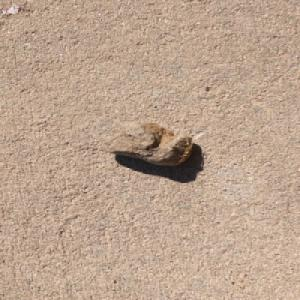Rock: (99, 121, 196, 166)
